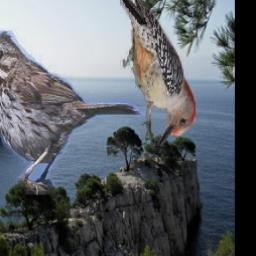Sparrow: (0, 28, 144, 196)
Woodpecker: (121, 0, 197, 146)
